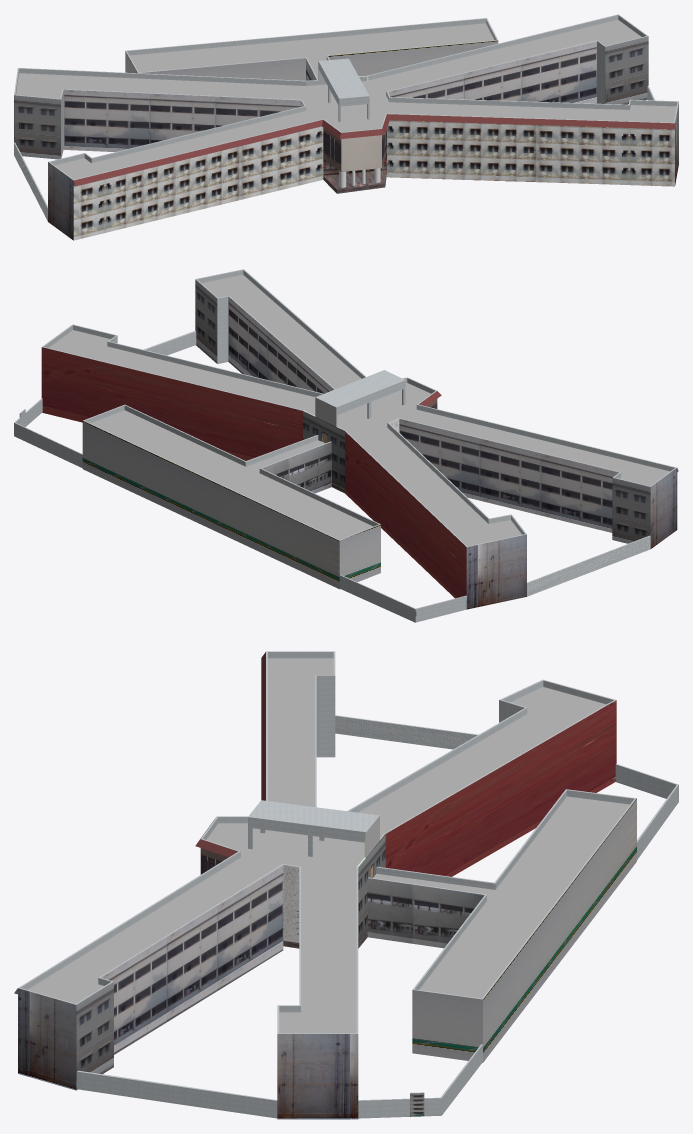
File: boys-old-hostal.fbx
The picture shows the model from 3 angles, top to bottom: view 1: azimuth 30°, elevation 25°; view 2: azimuth 150°, elevation 25°; view 3: azimuth 270°, elevation 25°; orthographic projection. The views are drawn at different scales.
Parts seen in each view (by area): view 1: SketchUp.019, SketchUp.023, SketchUp.025, SketchUp.002, SketchUp.049, SketchUp.003, SketchUp.016, SketchUp, SketchUp.001, SketchUp.017, SketchUp.006, SketchUp.026 (+6 smaller); view 2: SketchUp.004, SketchUp.019, SketchUp, SketchUp.010, SketchUp.002, SketchUp.016, SketchUp.007, SketchUp.067, SketchUp.017, SketchUp.009, SketchUp.015, SketchUp.060 (+6 smaller); view 3: SketchUp.019, SketchUp.004, SketchUp.007, SketchUp.016, SketchUp, SketchUp.002, SketchUp.005, SketchUp.013, SketchUp.022, SketchUp.062, SketchUp.017, SketchUp.008 (+6 smaller).
Part boxes in pixels (x1=…): SketchUp.019: x1=16, y1=20, x2=676, y2=179; SketchUp.023: x1=387, y1=120, x2=674, y2=186; SketchUp.025: x1=73, y1=126, x2=323, y2=240; SketchUp.002: x1=14, y1=14, x2=678, y2=180; SketchUp.049: x1=63, y1=89, x2=300, y2=151; SketchUp.003: x1=388, y1=41, x2=596, y2=103; SketchUp.016: x1=130, y1=23, x2=494, y2=79; SketchUp: x1=125, y1=40, x2=498, y2=80; SketchUp.001: x1=14, y1=95, x2=60, y2=159; SketchUp.017: x1=126, y1=18, x2=498, y2=79; SketchUp.006: x1=605, y1=36, x2=648, y2=104; SketchUp.026: x1=74, y1=114, x2=389, y2=186; SketchUp.004: x1=41, y1=347, x2=466, y2=598; SketchUp.019: x1=49, y1=275, x2=669, y2=546; SketchUp: x1=82, y1=421, x2=416, y2=622; SketchUp.010: x1=399, y1=419, x2=618, y2=532; SketchUp.002: x1=42, y1=269, x2=676, y2=546; SketchUp.016: x1=91, y1=410, x2=372, y2=539; SketchUp.007: x1=228, y1=296, x2=333, y2=393; SketchUp.067: x1=466, y1=534, x2=526, y2=609; SketchUp.017: x1=83, y1=404, x2=380, y2=540; SketchUp.009: x1=612, y1=477, x2=650, y2=543; SketchUp.015: x1=262, y1=442, x2=331, y2=493; SketchUp.060: x1=527, y1=535, x2=650, y2=596; SketchUp.019: x1=27, y1=658, x2=606, y2=1033; SketchUp.004: x1=358, y1=700, x2=616, y2=942; SketchUp.007: x1=101, y1=865, x2=283, y2=1054; SketchUp.016: x1=373, y1=796, x2=629, y2=998; SketchUp: x1=412, y1=798, x2=636, y2=1062; SketchUp.002: x1=18, y1=651, x2=615, y2=1033; SketchUp.005: x1=277, y1=1034, x2=358, y2=1119; SketchUp.013: x1=367, y1=878, x2=484, y2=948; SketchUp.022: x1=14, y1=988, x2=76, y2=1090; SketchUp.062: x1=76, y1=1070, x2=277, y2=1118; SketchUp.017: x1=368, y1=789, x2=636, y2=999; SketchUp.008: x1=76, y1=982, x2=113, y2=1090.
Size of the model in its own units: 11636 by 1575 by 8548.
